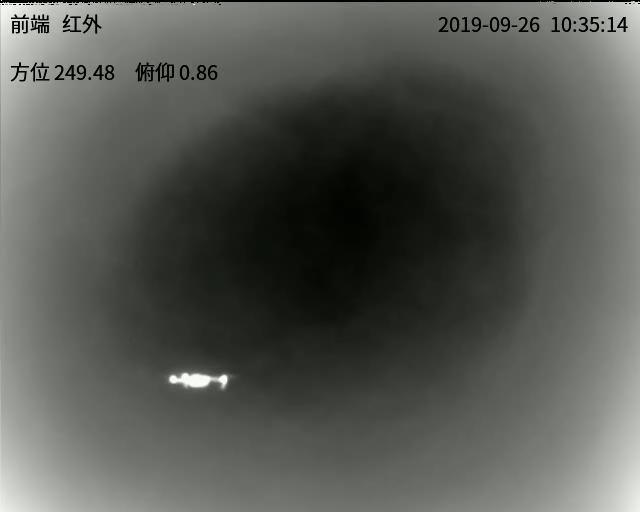uav: (167, 367, 242, 392)
